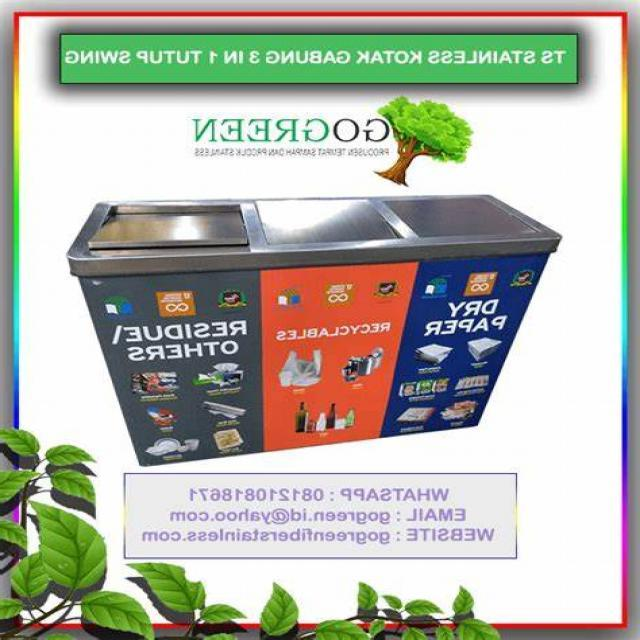garbage container: (49, 178, 576, 469)
